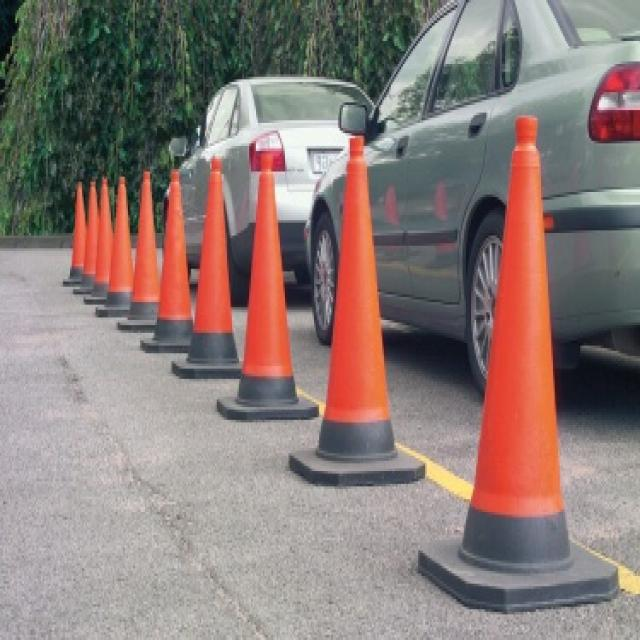cone: (55, 166, 611, 610)
